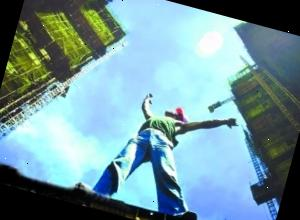helmet: (173, 106, 194, 125)
